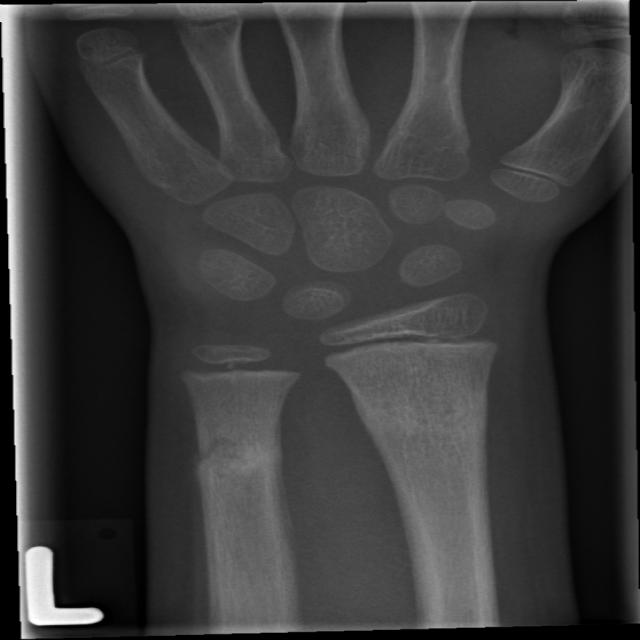ulna fracture: (173, 390, 327, 572)
